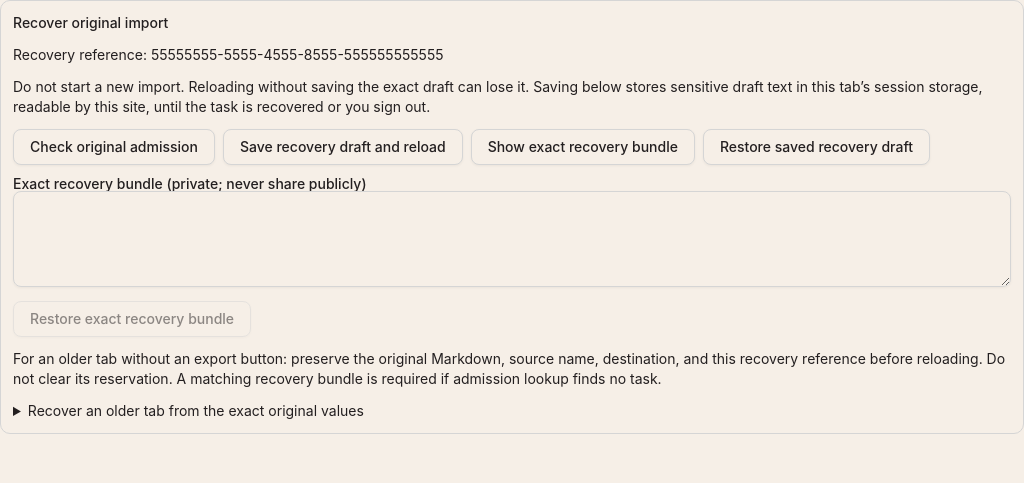
it: keeps the lock when lookup fails instead of replaying
The width and height of the screenshot is (1024, 483).
Click the button "Check original admission" at (114, 147), box [13,129,215,165]
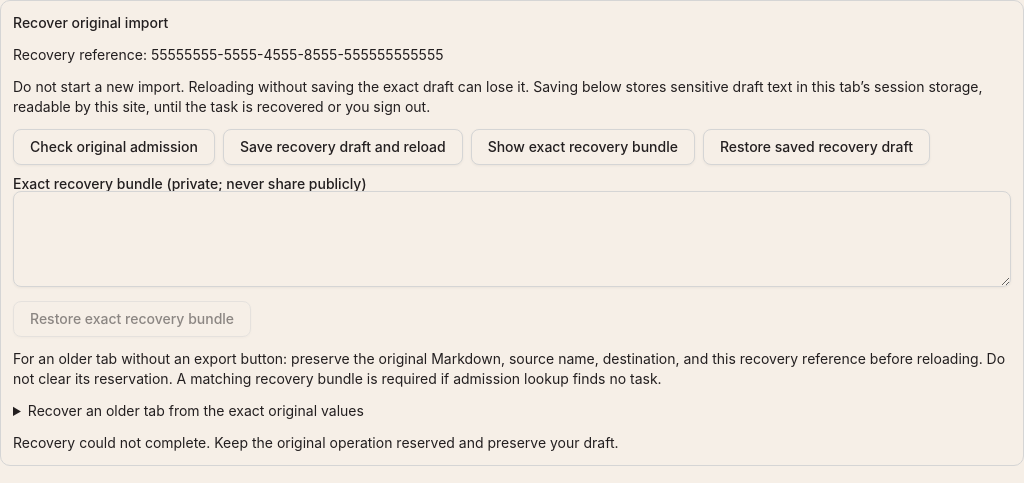
Check: the text "Recovery could not complete" is shown, box [13,434,618,451]
